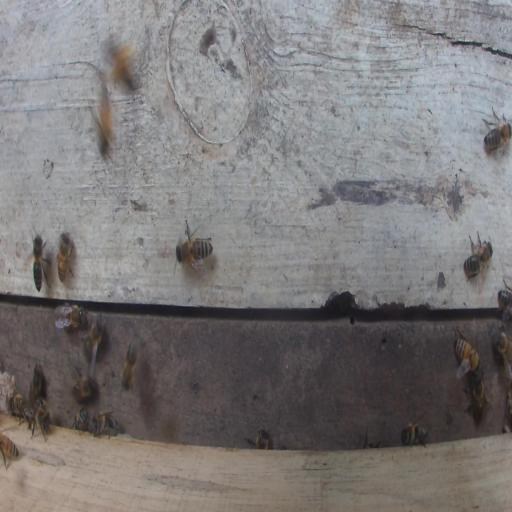nonpollenbee: (87, 78, 115, 164), (463, 230, 493, 289), (25, 233, 50, 293), (174, 235, 215, 271), (483, 106, 512, 155), (453, 327, 480, 377), (108, 42, 137, 86), (120, 335, 141, 393), (80, 315, 103, 367), (466, 370, 487, 424), (56, 230, 75, 284), (494, 329, 512, 378), (90, 410, 119, 439), (73, 365, 96, 401), (54, 304, 87, 329), (0, 431, 19, 470), (25, 405, 49, 435), (497, 277, 512, 321), (245, 425, 272, 449), (401, 422, 429, 445), (30, 362, 45, 404), (11, 394, 28, 422), (73, 406, 90, 432)
